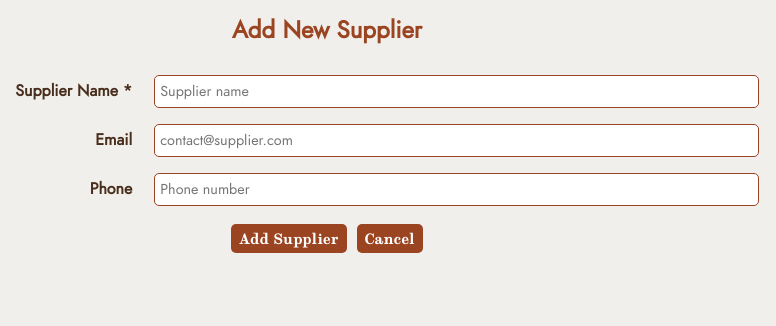
Test: AdminSupplierFormPage › shows validation errors for 400 response with string values
Step 1. Type "Bad Supplier" into the field with placeholder "Supplier name" → (457, 91), box x1=154 y1=75 x2=759 y2=108
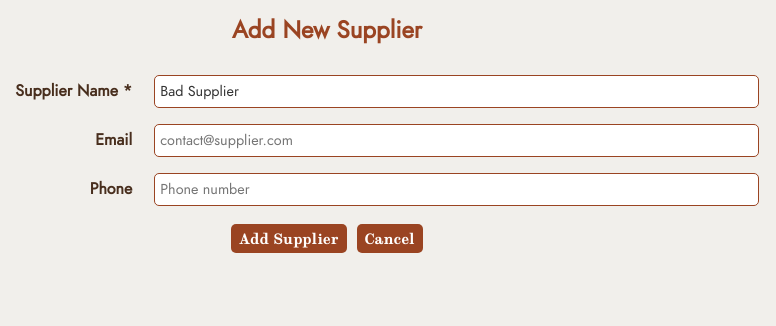
Step 2. Click the button "Add Supplier" → (289, 238), box x1=231 y1=224 x2=347 y2=253
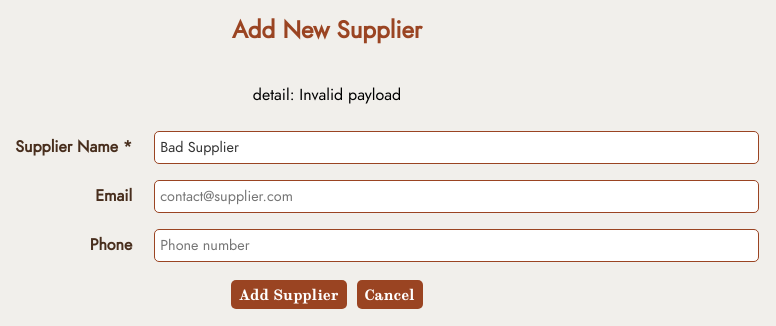
Expected: the text "detail: Invalid payload" is shown, x1=253 y1=84 x2=401 y2=106
